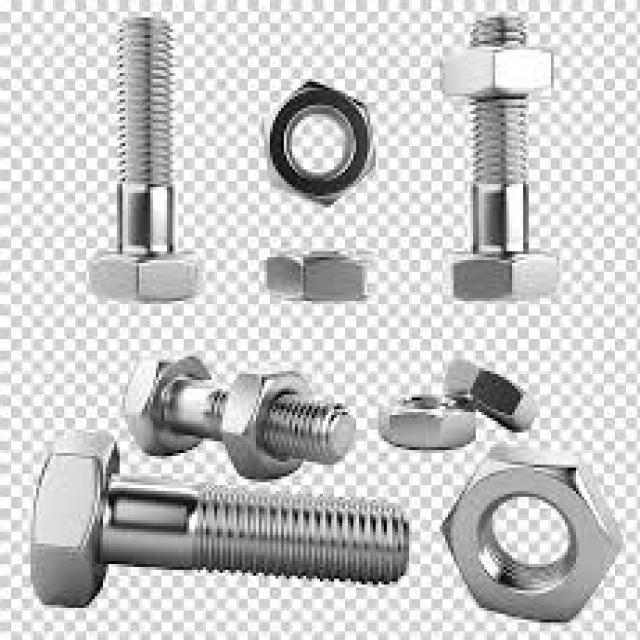metal: (28, 430, 406, 605), (437, 439, 618, 623), (89, 9, 198, 295), (123, 351, 356, 479), (448, 21, 554, 295), (262, 76, 370, 205), (470, 15, 526, 249), (114, 18, 170, 249), (217, 371, 306, 476), (440, 357, 537, 433), (89, 248, 195, 298), (440, 47, 551, 94), (379, 392, 471, 447), (448, 249, 554, 296), (265, 249, 365, 296)
